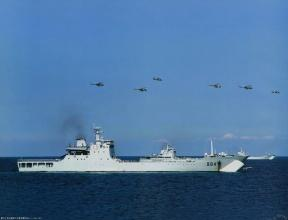airplane: (87, 76, 108, 89), (238, 82, 255, 91), (131, 86, 150, 94), (209, 82, 223, 89), (149, 76, 165, 82), (269, 88, 282, 95)
warship: (16, 124, 254, 175)
